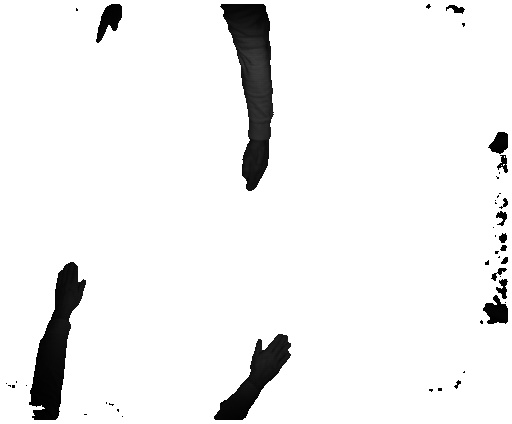hand: (251, 328, 295, 387), (48, 256, 87, 320), (240, 146, 271, 191)
